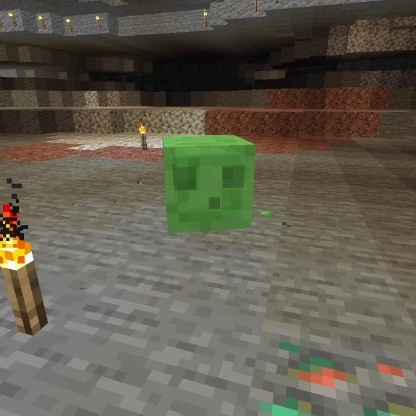slime: (158, 131, 258, 238)
